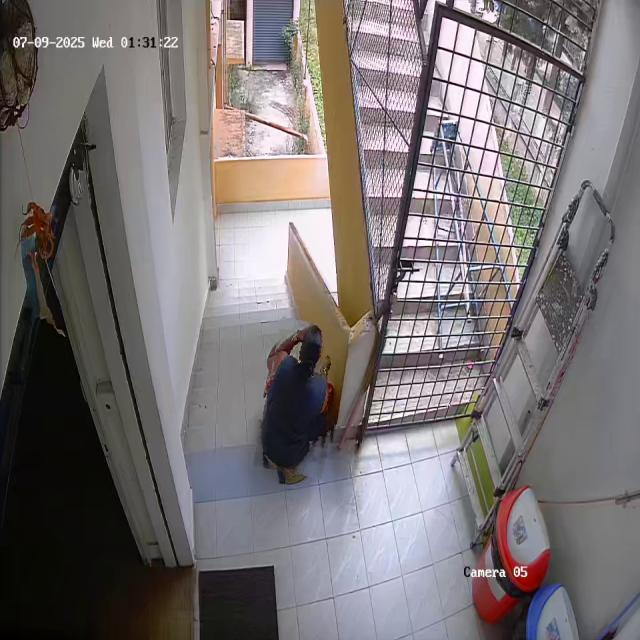person: (260, 320, 344, 477)
